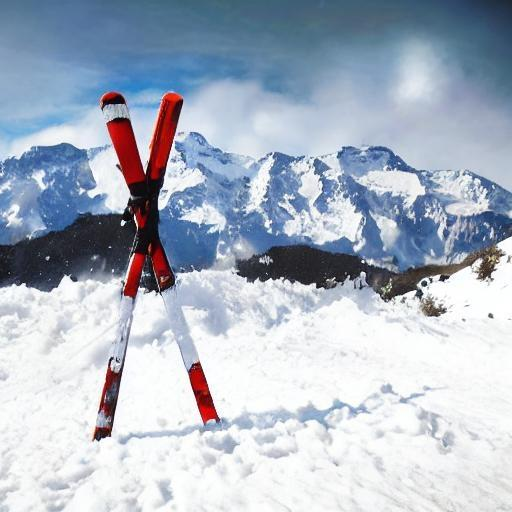Skis: (91, 84, 232, 432), (85, 84, 196, 454)
